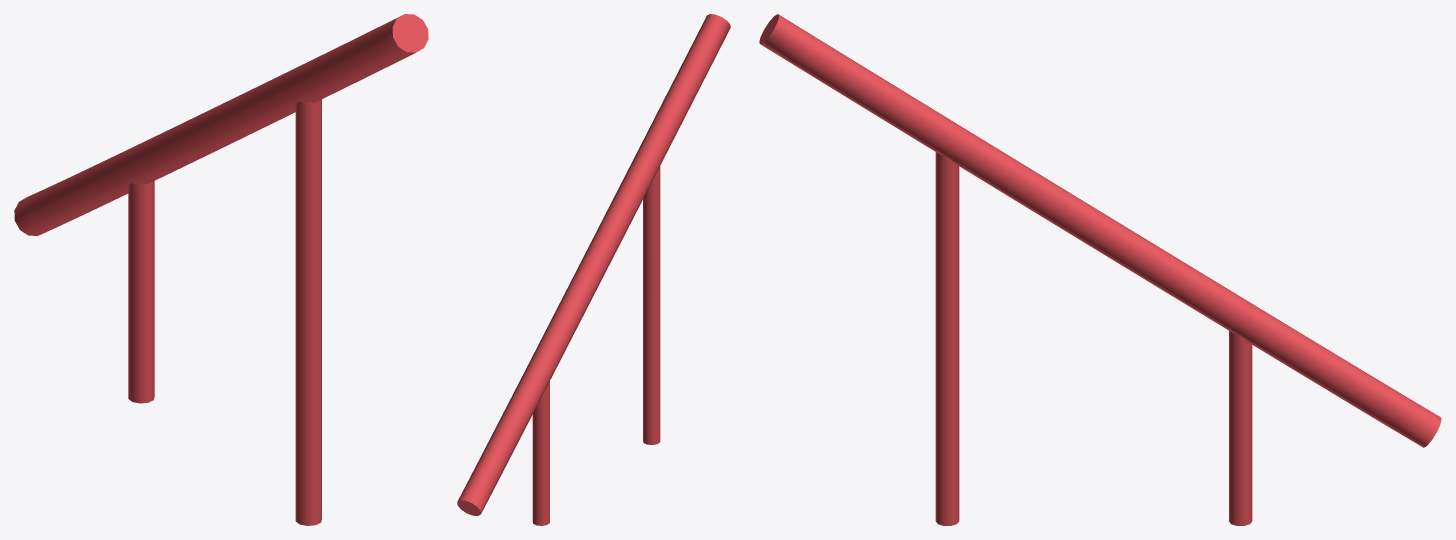
Rendered from rail_bottom_top_flat.glb.
3 views of the same model, side by side, from view 1: azimuth 30°, elevation 25°; view 2: azimuth 150°, elevation 25°; view 3: azimuth 270°, elevation 25° (orthographic). The views are drawn at different scales.
Parts seen in each view (by area): view 1: Cylinder.021; view 2: Cylinder.021; view 3: Cylinder.021.
Part boxes in pixels (x1,y1,x2,y2): Cylinder.021: (14,14,428,525); Cylinder.021: (457,14,730,525); Cylinder.021: (759,14,1441,525).
Bounding box in the file's own units: 0.8 × 12.58 × 15.4.
